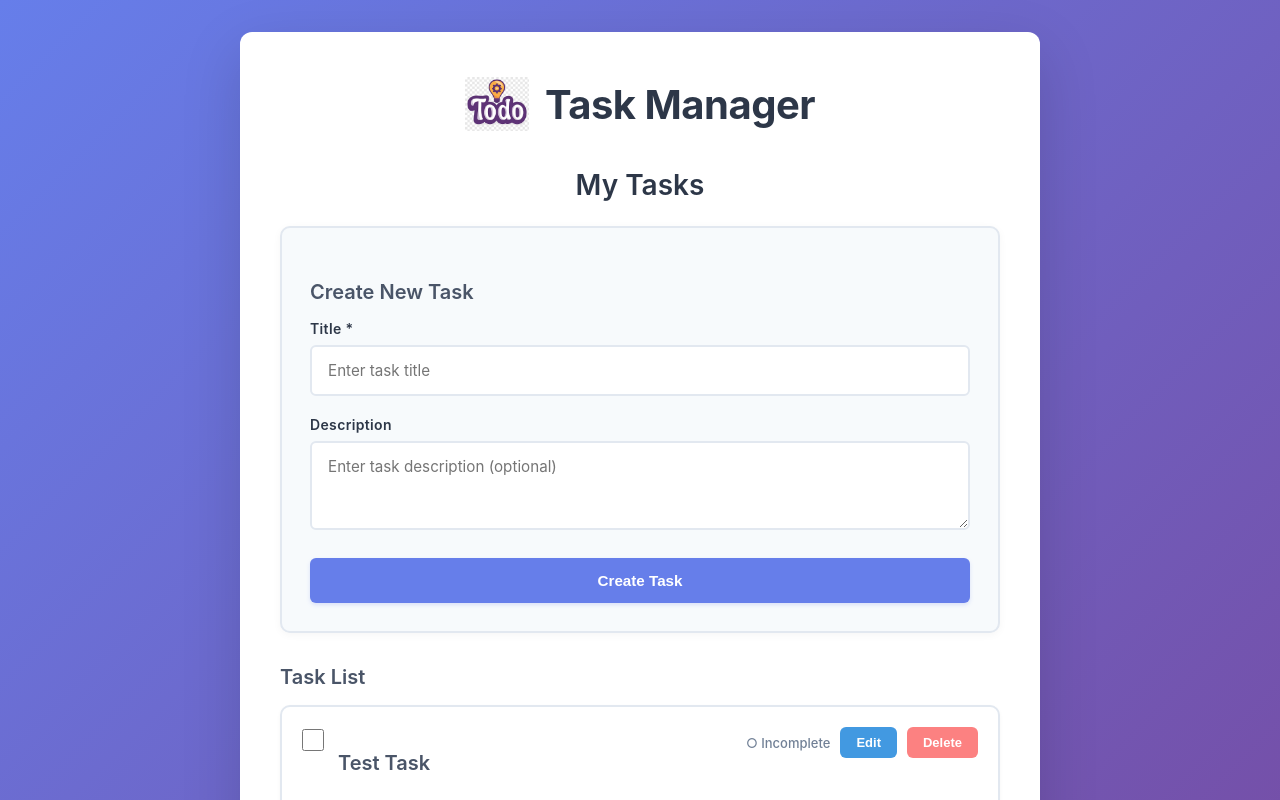
App Component › Integration Tests - Complete User Flows › Task Editing Flow › should handle cancel during edit
Expected: the heading "Test Task" is shown, [338, 751, 430, 775]
Note: Start editing
Click the button named "edit task \"test task\"".
click(869, 742)  # box [840, 727, 897, 758]
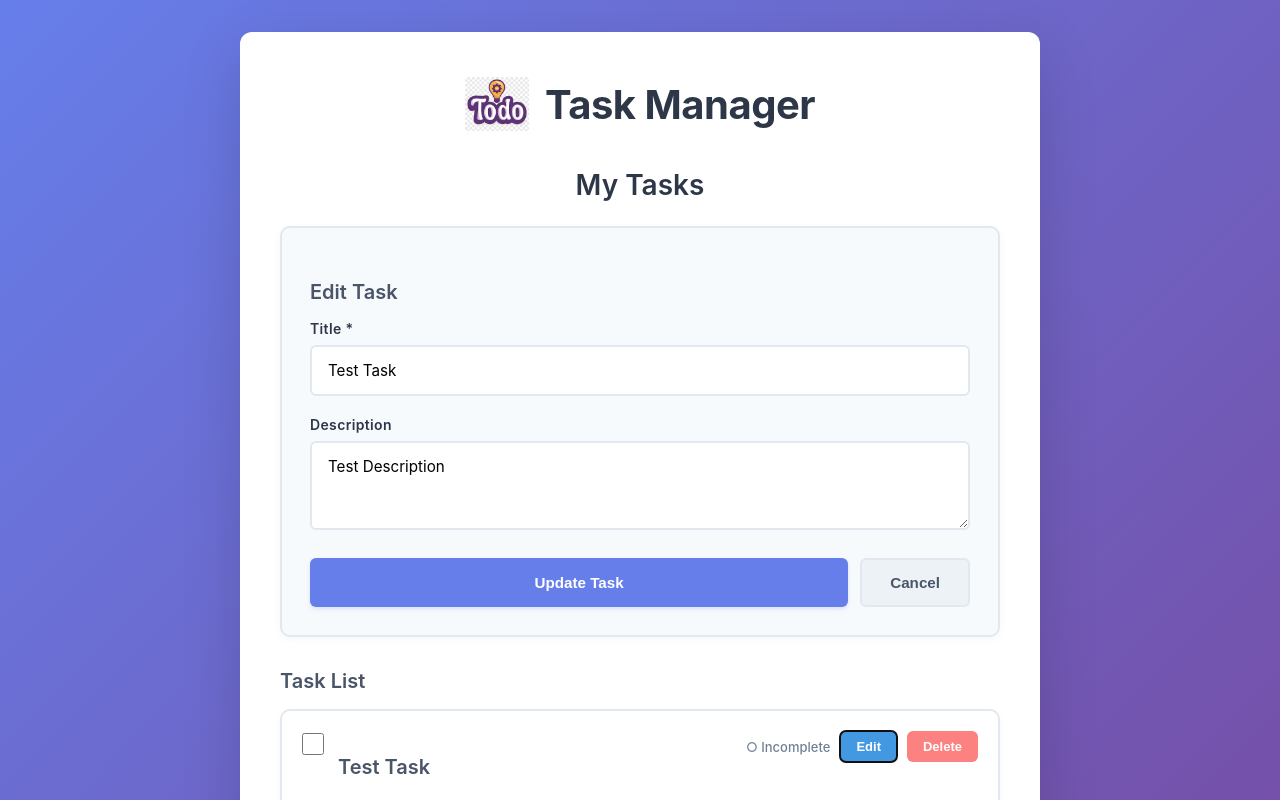
Expected: the heading "Edit Task" is shown, [310, 280, 398, 304]
Note: Make some changes
Replace the text in the field with placeholder "Enter task title" with "Changed Title" at [640, 370], box [310, 345, 970, 396]
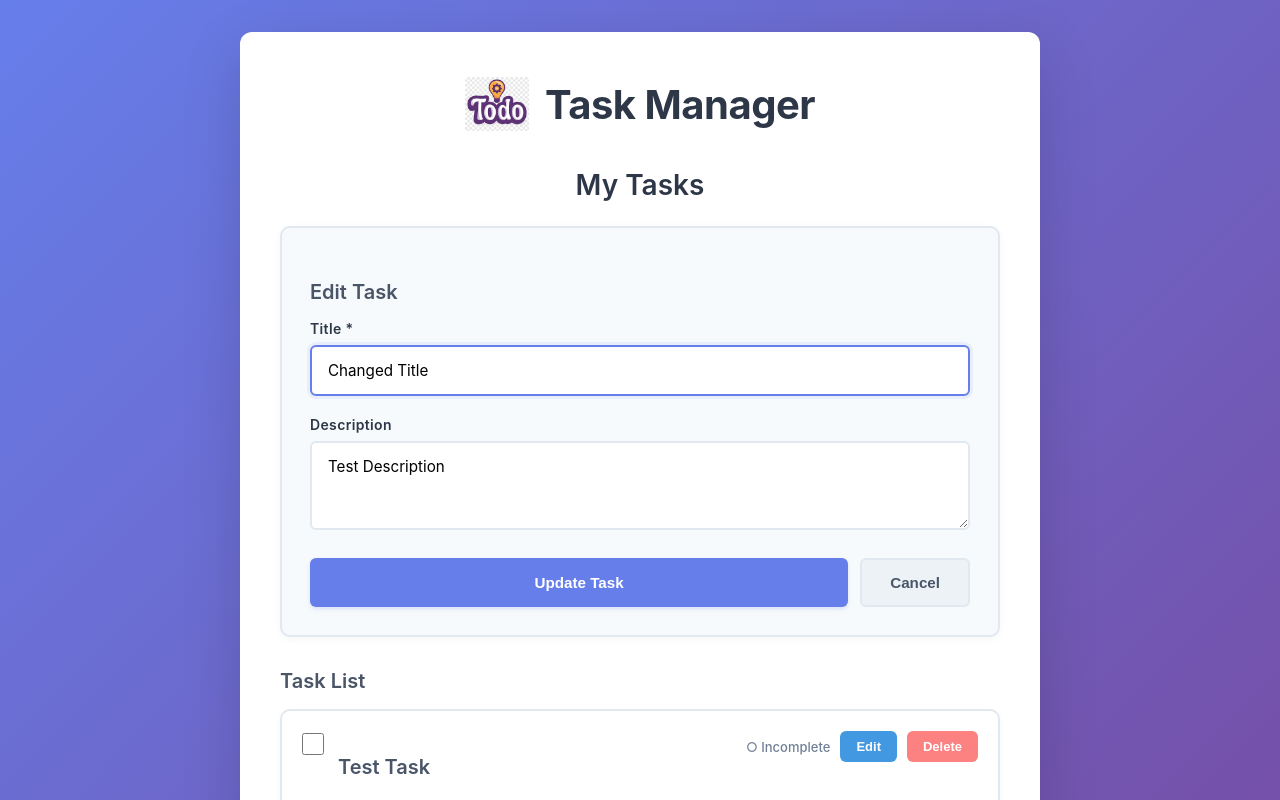
Note: Click cancel
Click the button "Cancel".
click(915, 582)  # box [860, 558, 970, 607]
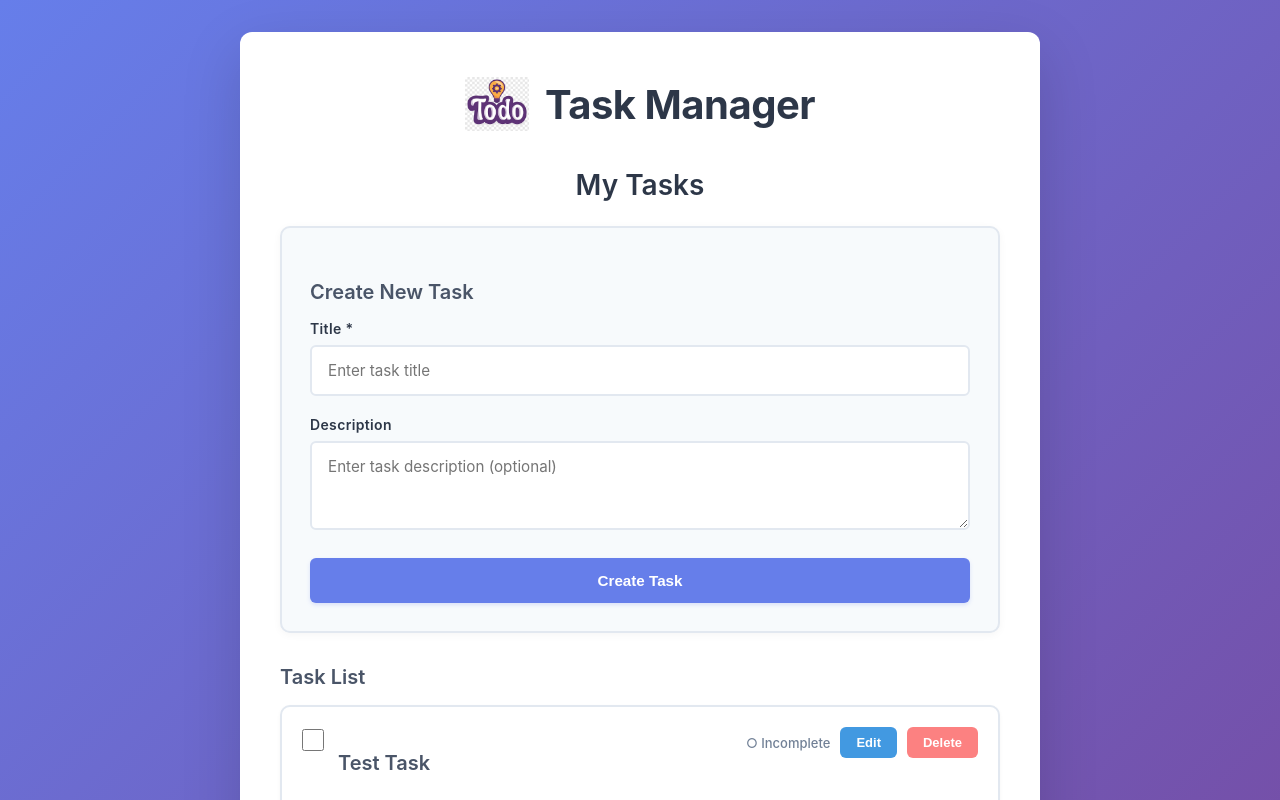
Expected: the heading "Test Task" is shown, [338, 751, 430, 775]
Expected: the heading "Create New Task" is shown, [310, 280, 474, 304]
